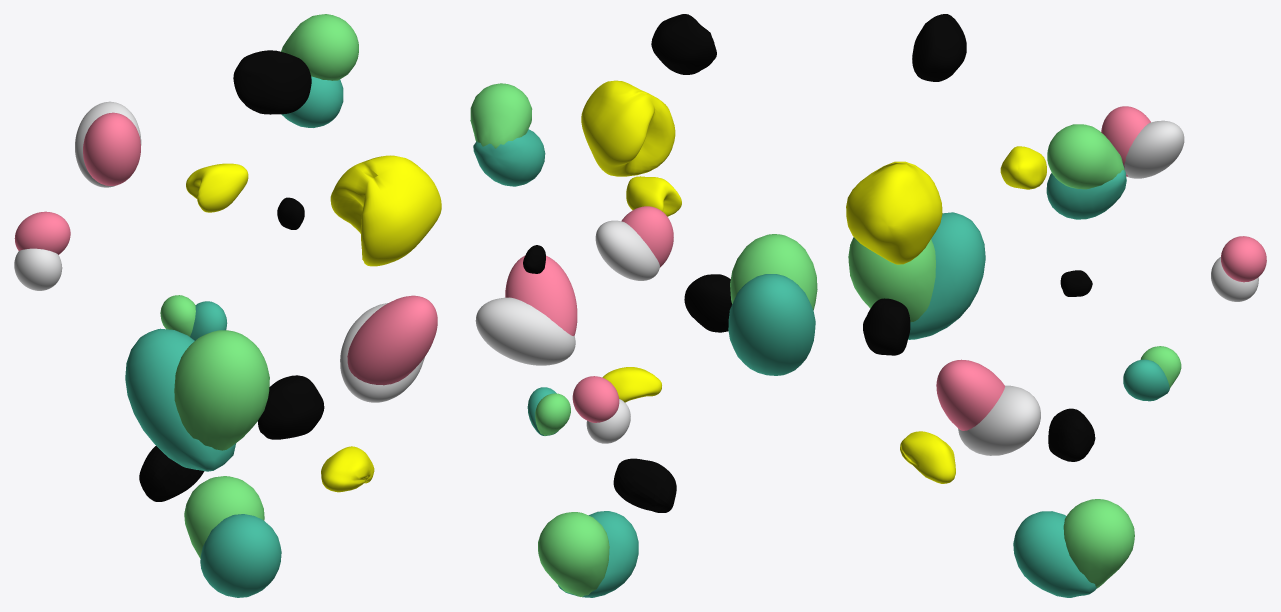
The model's file is asset.glb.
3 views of the same model, side by side, from view 1: azimuth 30°, elevation 25°; view 2: azimuth 150°, elevation 25°; view 3: azimuth 270°, elevation 25° (orthographic). The views are drawn at different scales.
Visible parts, largest first — view 1: Sphere.008, Sphere.011, Sphere.007, Sphere.004, Sphere.005, Sphere.016, Sphere.010, Sphere.006, Sphere.020, Sphere.013, Sphere.012, Sphere.015 (+9 smaller); view 2: Sphere.007, Sphere.011, Sphere.006, Sphere.003, Sphere.008, Sphere.004, Sphere.010, Sphere.016, Sphere.009, Sphere.015, Sphere.019, Sphere.005 (+9 smaller); view 3: Sphere.011, Sphere.007, Sphere.006, Sphere.005, Sphere.008, Sphere.010, Sphere.003, Sphere.004, Sphere.016, Sphere.019, Sphere.009, Sphere.013 (+9 smaller).
Part boxes in pixels (bbox=[...]): Sphere.008: bbox=[174, 330, 269, 450]; Sphere.011: bbox=[330, 155, 441, 266]; Sphere.007: bbox=[125, 328, 236, 471]; Sphere.004: bbox=[347, 295, 437, 385]; Sphere.005: bbox=[200, 514, 281, 597]; Sphere.016: bbox=[233, 50, 311, 114]; Sphere.010: bbox=[281, 14, 358, 80]; Sphere.006: bbox=[184, 476, 264, 558]; Sphere.020: bbox=[83, 112, 140, 185]; Sphere.013: bbox=[257, 375, 324, 439]; Sphere.012: bbox=[186, 163, 248, 212]; Sphere.015: bbox=[139, 446, 204, 501]; Sphere.007: bbox=[728, 274, 815, 375]; Sphere.011: bbox=[581, 80, 675, 176]; Sphere.006: bbox=[538, 512, 609, 596]; Sphere.003: bbox=[475, 297, 575, 365]; Sphere.008: bbox=[730, 234, 817, 310]; Sphere.004: bbox=[505, 255, 577, 335]; Sphere.010: bbox=[470, 83, 532, 148]; Sphere.016: bbox=[651, 14, 716, 74]; Sphere.009: bbox=[473, 129, 545, 186]; Sphere.015: bbox=[613, 458, 676, 512]; Sphere.019: bbox=[595, 220, 659, 280]; Sphere.005: bbox=[558, 511, 638, 597]; Sphere.011: bbox=[846, 161, 942, 264]; Sphere.007: bbox=[908, 212, 985, 339]; Sphere.006: bbox=[1063, 499, 1134, 588]; Sphere.005: bbox=[1013, 511, 1096, 597]; Sphere.008: bbox=[848, 237, 935, 322]; Sphere.010: bbox=[1047, 124, 1124, 189]; Sphere.003: bbox=[958, 385, 1040, 455]; Sphere.004: bbox=[936, 359, 1004, 430]; Sphere.016: bbox=[912, 14, 966, 81]; Sphere.019: bbox=[1124, 120, 1184, 178]; Sphere.009: bbox=[1046, 163, 1126, 219]; Sphere.013: bbox=[863, 298, 910, 355].
Size of the model in its own units: 16.15 by 28.39 by 19.35.
